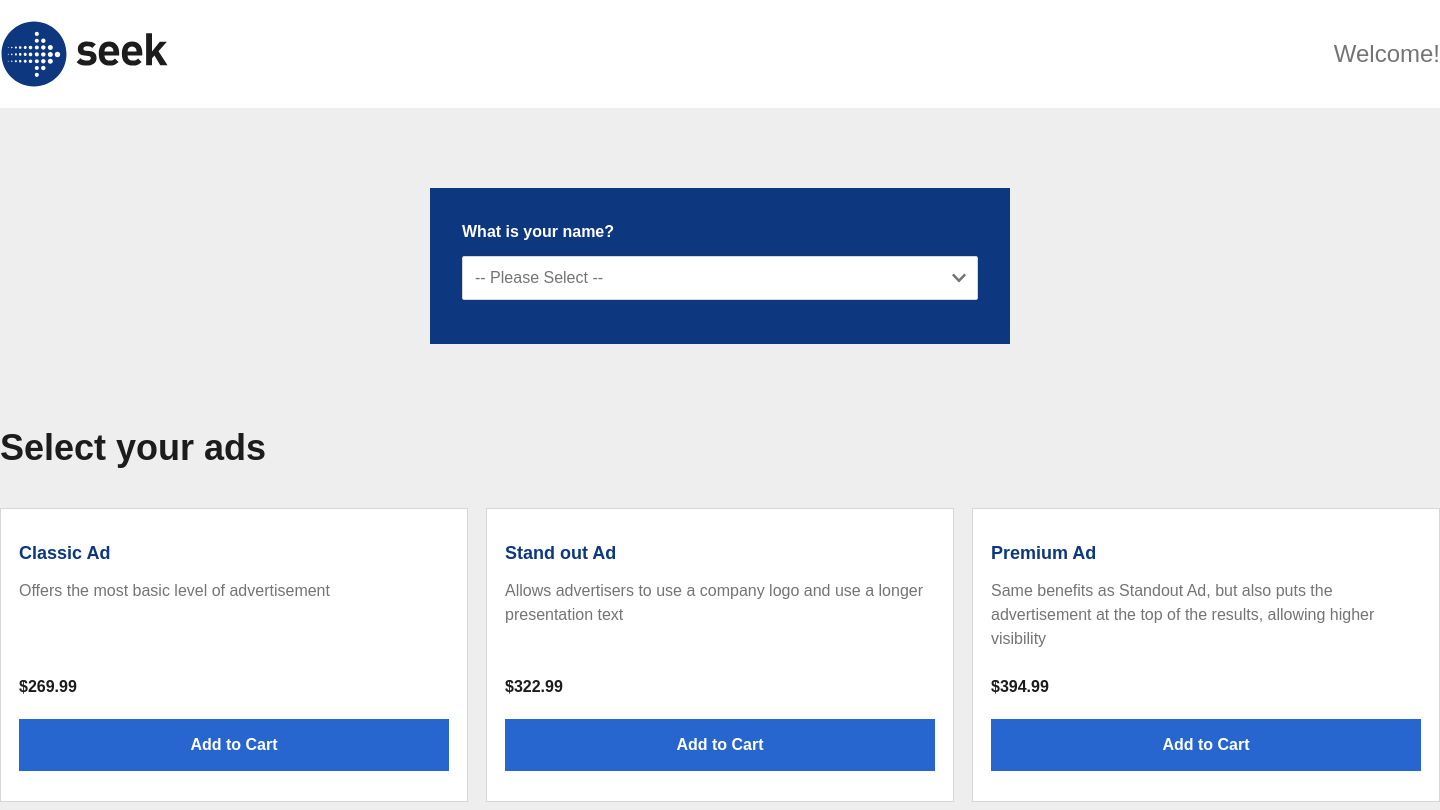
<App /> › Add item to cart › should display the cart and the item in the cart
Step 1. Click the button with test id "classic-add-to-cart-btn" → (234, 745), box [19,719,449,771]
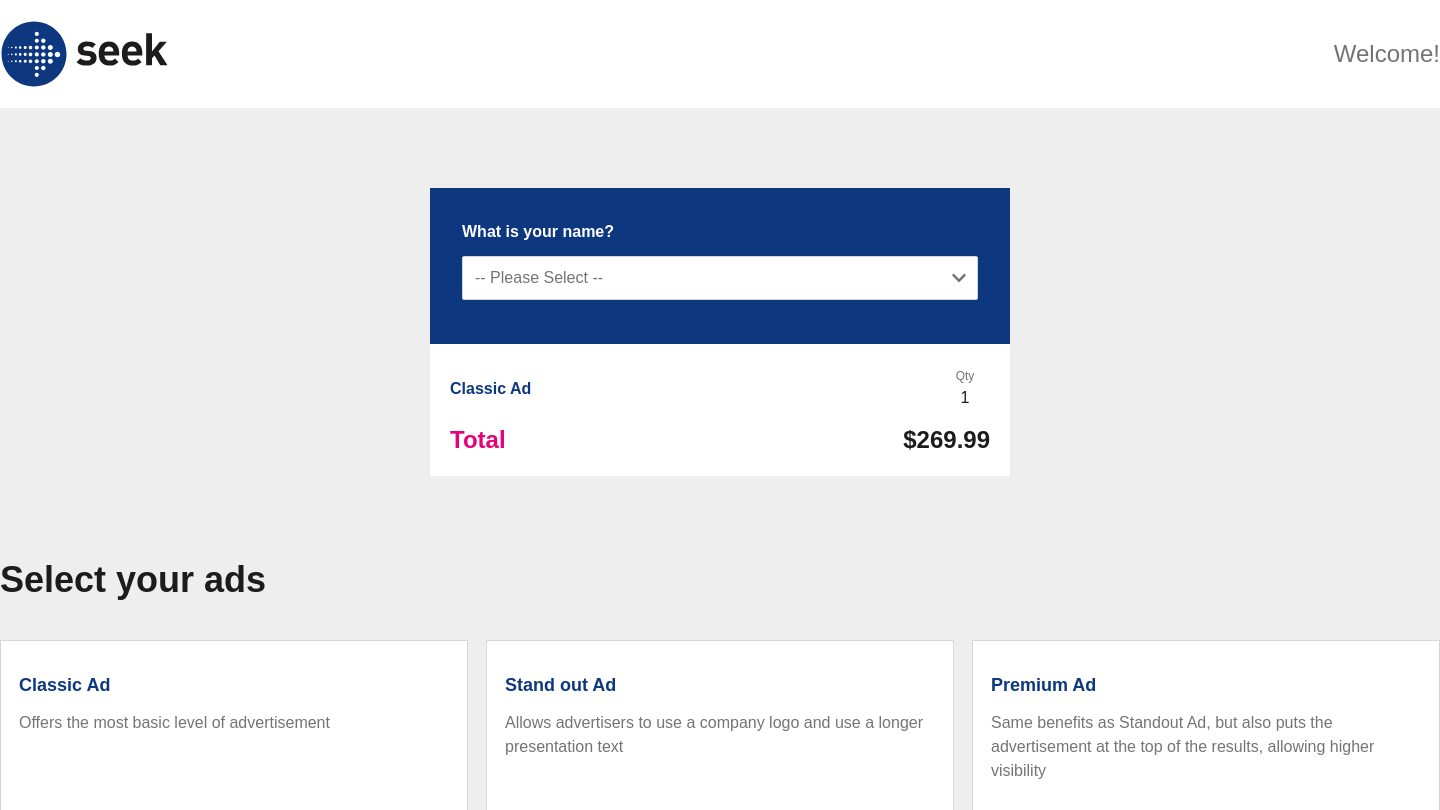
Check: the element with test id "cart" is shown, box [430,344,1010,476]
Check: the text "Classic Ad" is shown, box [450,380,531,397]
